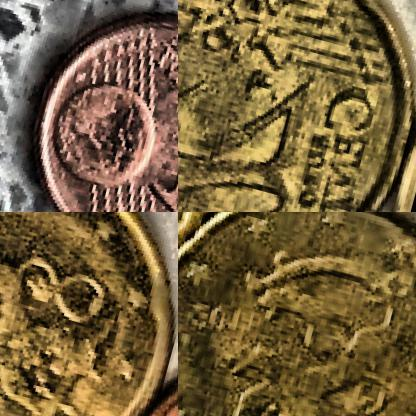coin: (178, 0, 415, 211), (178, 212, 415, 415), (5, 0, 177, 211), (0, 212, 177, 415)
